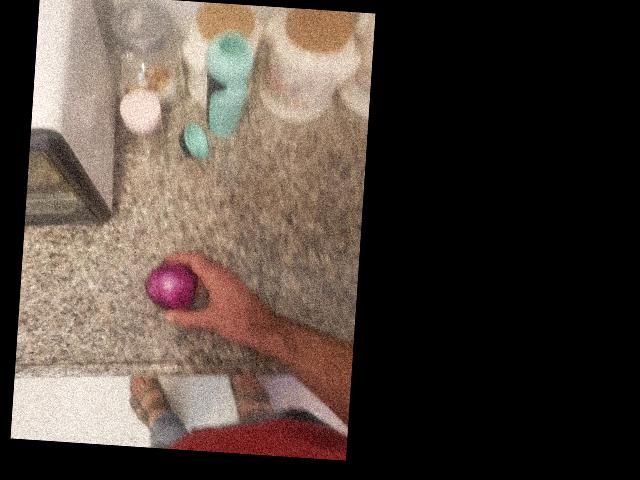onion: (38, 119, 104, 181)
